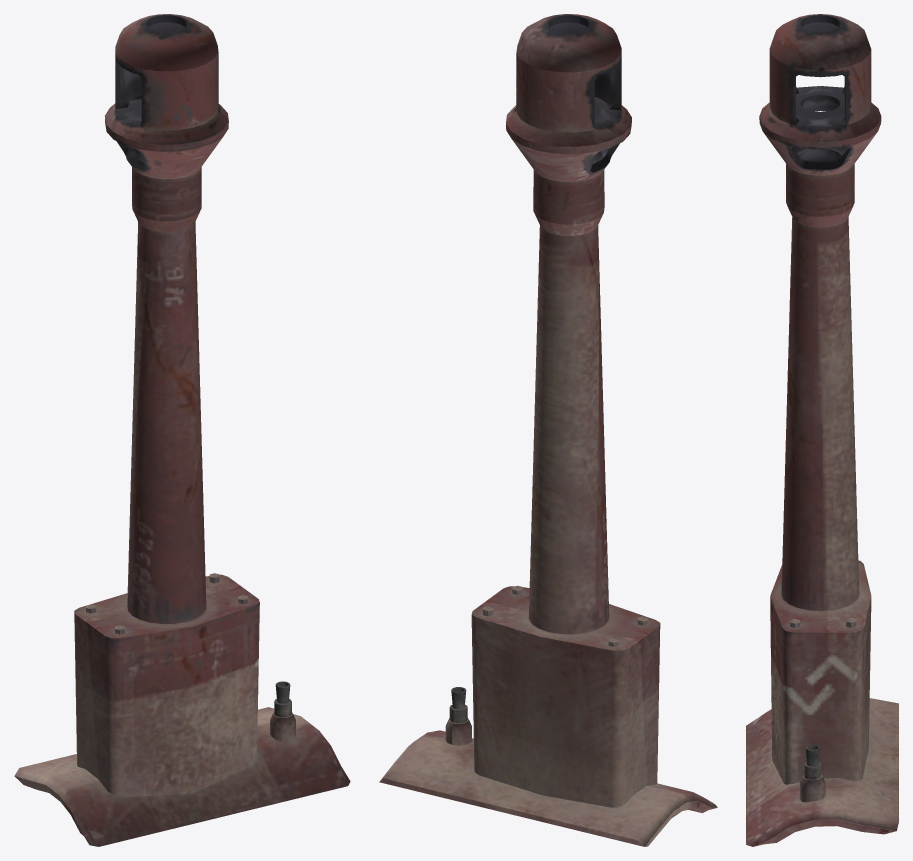
File: Gun_01.glb
3 renders of one model, left to right at view 1: azimuth 30°, elevation 25°; view 2: azimuth 150°, elevation 25°; view 3: azimuth 270°, elevation 25°, orthographic. The views are drawn at different scales.
Visible parts, largest first — view 1: set_0_group_0; view 2: set_0_group_0; view 3: set_0_group_0.
Part boxes in pixels (<box>): set_0_group_0: <box>14,14,350,846</box>; set_0_group_0: <box>379,14,717,846</box>; set_0_group_0: <box>746,14,898,846</box>.
Bounding box in the file's own units: 0.7848 × 2.2 × 0.4041.
1 material, 1 textured.
